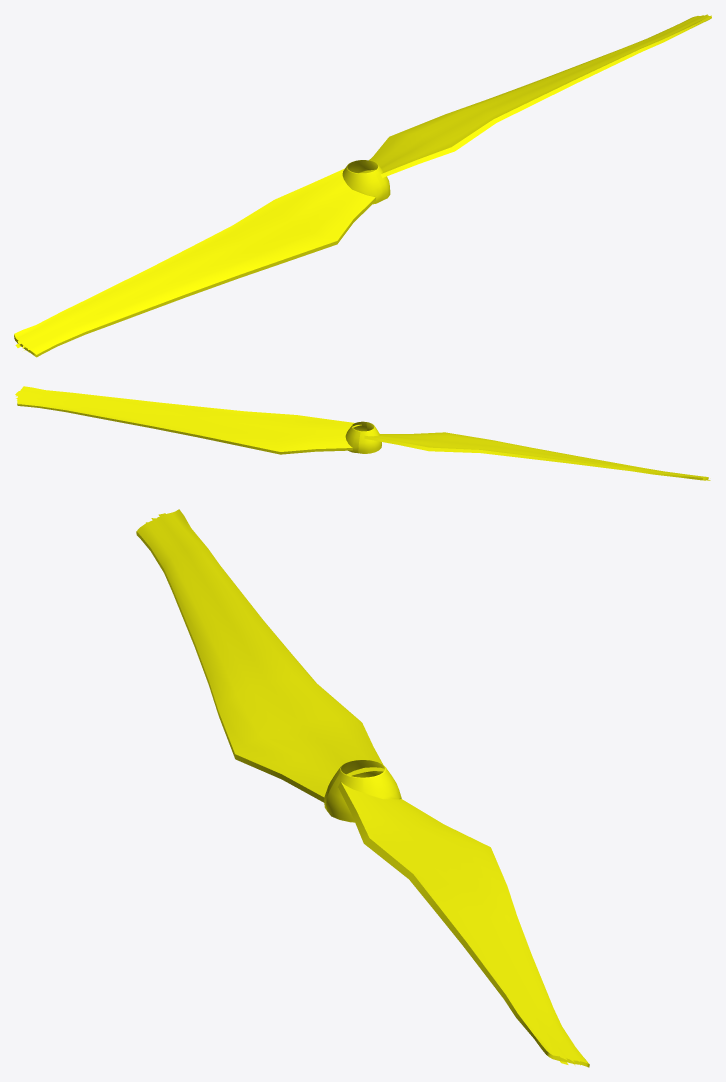
File: propeller_yellow.fbx
The picture shows the model from 3 angles, top to bottom: view 1: azimuth 30°, elevation 25°; view 2: azimuth 150°, elevation 25°; view 3: azimuth 270°, elevation 25°; orthographic projection. The views are drawn at different scales.
Parts seen in each view (by area): view 1: polySurface8; view 2: polySurface8; view 3: polySurface8.
Boxes of the visible parts, left/top/right/bottom form: polySurface8: left=14, top=14, right=711, bottom=357; polySurface8: left=15, top=386, right=710, bottom=480; polySurface8: left=136, top=509, right=589, bottom=1067.
Bounding box in the file's own units: 17.81 × 0.746 × 5.89.
